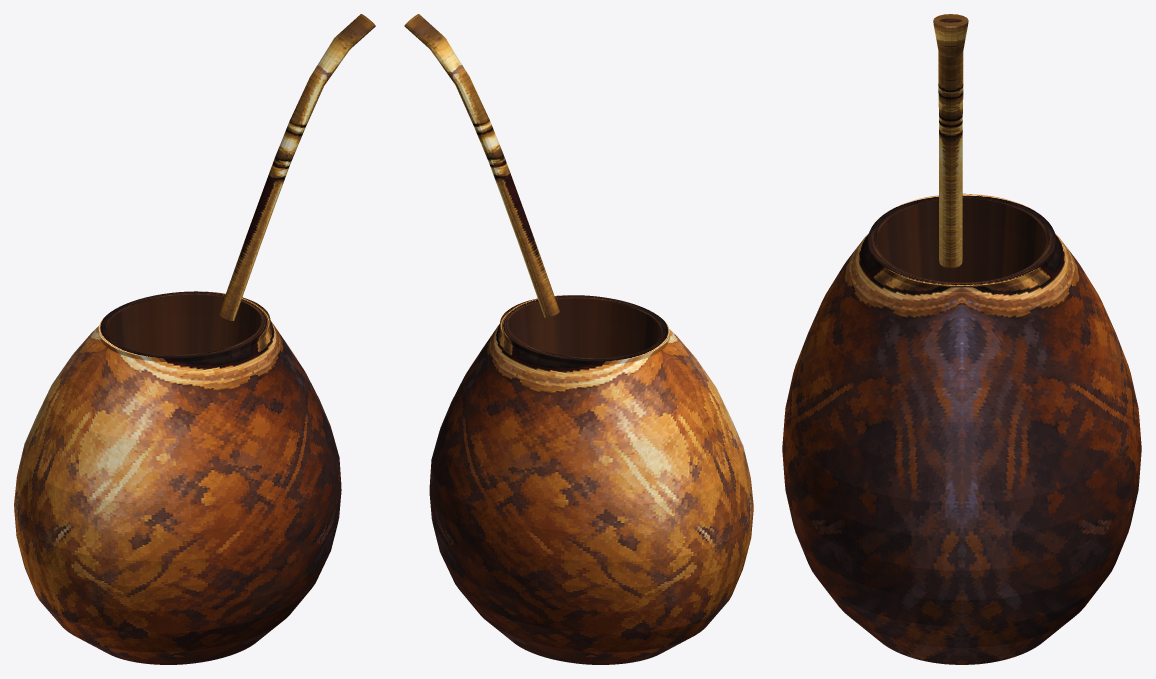
File: gourd.obj
3 views of the same model, side by side, from view 1: azimuth 30°, elevation 25°; view 2: azimuth 150°, elevation 25°; view 3: azimuth 270°, elevation 25° (orthographic). The views are drawn at different scales.
Parts seen in each view (by area): view 1: closed_porongo_shell, fixed_bronze_bombilla; view 2: closed_porongo_shell, fixed_bronze_bombilla; view 3: closed_porongo_shell, fixed_bronze_bombilla.
Part boxes in pixels (left/top/right/bottom): closed_porongo_shell: left=14, top=291, right=341, bottom=664; fixed_bronze_bombilla: left=218, top=14, right=375, bottom=320; closed_porongo_shell: left=429, top=295, right=753, bottom=664; fixed_bronze_bombilla: left=404, top=14, right=559, bottom=317; closed_porongo_shell: left=782, top=193, right=1141, bottom=664; fixed_bronze_bombilla: left=933, top=14, right=968, bottom=268.
Size of the model in its own units: 12.34 by 20.63 by 9.19.
Materials: 1 (1 with a texture image).
